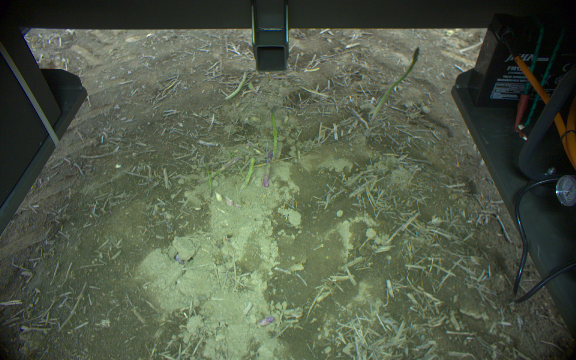aspa: (368, 44, 422, 124), (224, 69, 247, 102), (268, 111, 281, 155), (240, 155, 256, 190), (263, 150, 276, 188), (246, 80, 259, 98)
